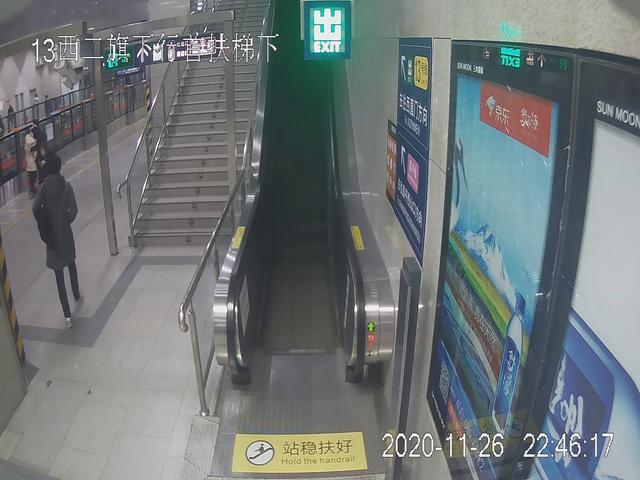person: (29, 155, 79, 328), (27, 119, 49, 195), (23, 129, 37, 191)
